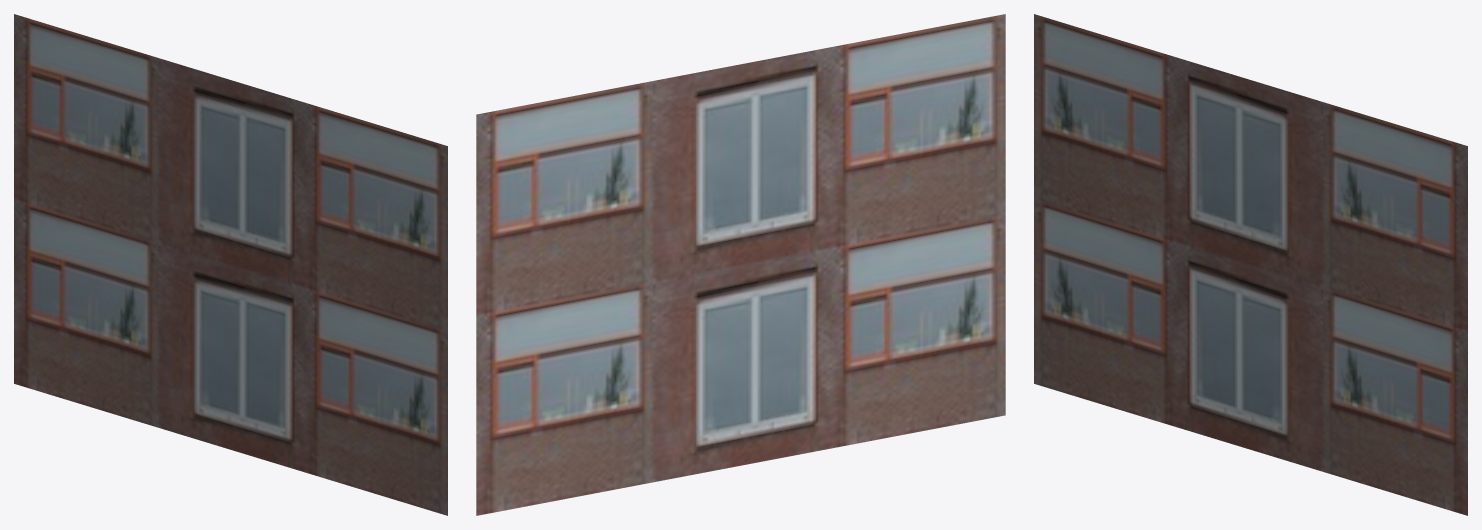
File: ResTex__3921.fbx
3 views of the same model, side by side, from view 1: azimuth 90°, elevation 25°; view 2: azimuth 150°, elevation 25°; view 3: azimuth 270°, elevation 25° (orthographic). The views are drawn at different scales.
Visible parts, largest first — view 1: CityEngineMaterial_19_m; view 2: CityEngineMaterial_19_m; view 3: CityEngineMaterial_19_m.
Part boxes in pixels (bbox=[...]): CityEngineMaterial_19_m: bbox=[14, 14, 447, 515]; CityEngineMaterial_19_m: bbox=[476, 14, 1005, 515]; CityEngineMaterial_19_m: bbox=[1034, 14, 1467, 515].
Size of the model in its own units: 4.6 by 6 by 6.38.
1 material, 1 textured.
